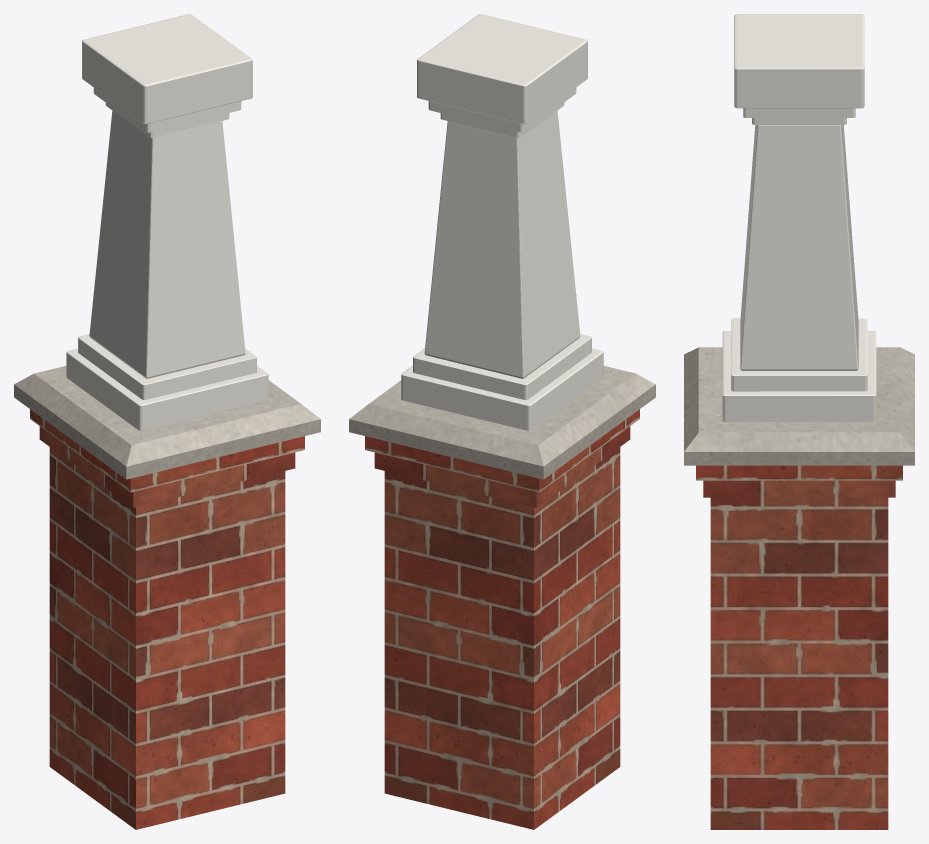
The model's file is porch_pier.glb.
3 views of the same model, side by side, from view 1: azimuth 30°, elevation 25°; view 2: azimuth 150°, elevation 25°; view 3: azimuth 270°, elevation 25° (orthographic). The views are drawn at different scales.
Visible parts, largest first — view 1: porch_pier_brick, porch_pier_trim, porch_pier_cap; view 2: porch_pier_brick, porch_pier_trim, porch_pier_cap; view 3: porch_pier_brick, porch_pier_trim, porch_pier_cap.
Boxes of the visible parts, x1=… form: porch_pier_brick: x1=30, y1=409, x2=304, y2=829; porch_pier_trim: x1=66, y1=14, x2=268, y2=430; porch_pier_cap: x1=14, y1=366, x2=320, y2=479; porch_pier_brick: x1=365, y1=409, x2=639, y2=829; porch_pier_trim: x1=401, y1=14, x2=603, y2=430; porch_pier_cap: x1=349, y1=366, x2=655, y2=479; porch_pier_brick: x1=696, y1=465, x2=902, y2=829; porch_pier_trim: x1=722, y1=14, x2=876, y2=421; porch_pier_cap: x1=684, y1=347, x2=914, y2=465.
Size of the model in its own units: 0.78 by 2.8 by 0.78.
3 materials, 2 textured.
